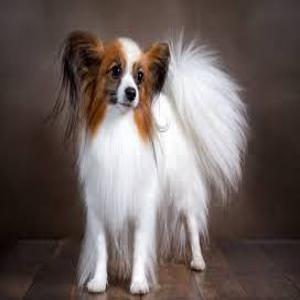yell: (55, 30, 247, 293)
